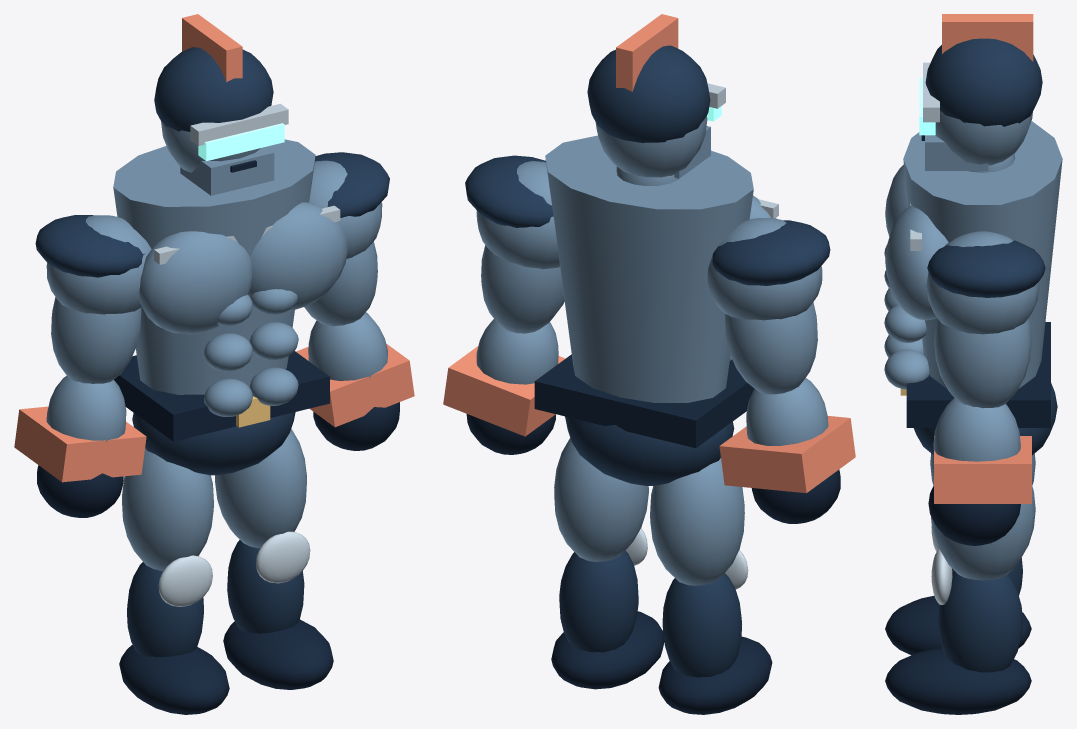
File: strong.glb
3 renders of one model, left to right at view 1: azimuth 30°, elevation 25°; view 2: azimuth 150°, elevation 25°; view 3: azimuth 270°, elevation 25°, orthographic. The views are drawn at different scales.
Visible parts, largest first — view 1: Torso, Pectoral_L, Thigh_L, Pectoral_R, Helmet, Thigh_R, Belt, Cosmetic_Bracer_L, Bicep_L, Boot_R, Boot_L, Pelvis (+26 smaller); view 2: Torso, Thigh_L, Belt, Helmet, Thigh_R, Shin_L, Shin_R, Cosmetic_Bracer_L, Pelvis, Bicep_L, ShoulderPlate_L, Bicep_R (+12 smaller); view 3: Torso, Helmet, Shin_R, Boot_R, Bicep_R, ShoulderPlate_R, Cosmetic_Bracer_R, Deltoid_R, Forearm_R, Pectoral_R, Belt, Thigh_R (+14 smaller).
Boxes of the visible parts, box(x1,y1,x2,y2) form: Torso: box(113, 139, 315, 394); Pectoral_L: box(139, 231, 252, 334); Thigh_L: box(122, 448, 213, 570); Pectoral_R: box(248, 202, 347, 310); Helmet: box(154, 47, 273, 131); Thigh_R: box(215, 429, 306, 548); Belt: box(114, 351, 329, 441); Cosmetic_Bracer_L: box(14, 406, 146, 482); Bicep_L: box(51, 297, 141, 383); Boot_R: box(223, 619, 333, 689); Boot_L: box(119, 645, 229, 714); Pelvis: box(132, 412, 295, 475); Torso: box(545, 135, 753, 402); Thigh_L: box(650, 458, 744, 585); Belt: box(534, 354, 754, 448); Helmet: box(587, 45, 710, 142); Thigh_R: box(554, 438, 648, 561); Shin_L: box(662, 573, 741, 677); Shin_R: box(559, 550, 638, 652); Cosmetic_Bracer_L: box(719, 416, 855, 493); Pelvis: box(565, 416, 734, 485); Bicep_L: box(724, 302, 817, 394); ShoulderPlate_L: box(712, 220, 830, 285); Bicep_R: box(481, 245, 564, 333); Torso: box(903, 121, 1062, 388); Helmet: box(925, 38, 1042, 126); Shin_R: box(938, 571, 1022, 672); Boot_R: box(885, 648, 1031, 714); Bicep_R: box(934, 318, 1031, 408); ShoulderPlate_R: box(927, 240, 1045, 297); Cosmetic_Bracer_R: box(934, 436, 1031, 503); Deltoid_R: box(926, 231, 1039, 334); Forearm_R: box(933, 398, 1020, 461); Pectoral_R: box(885, 205, 948, 320); Belt: box(906, 322, 1050, 427); Thigh_R: box(931, 485, 1035, 580).
Size of the model in its own units: 1.78 by 3.13 by 0.7616.
